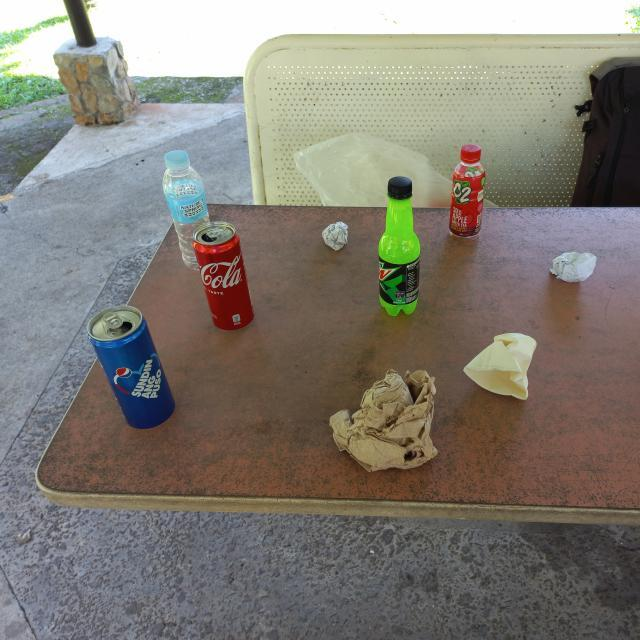recyclable waste: (319, 359, 452, 482), (79, 298, 183, 436), (187, 215, 261, 341), (158, 144, 218, 280), (457, 324, 547, 411), (374, 172, 424, 321), (444, 138, 488, 241), (544, 246, 604, 289), (318, 217, 354, 256)
